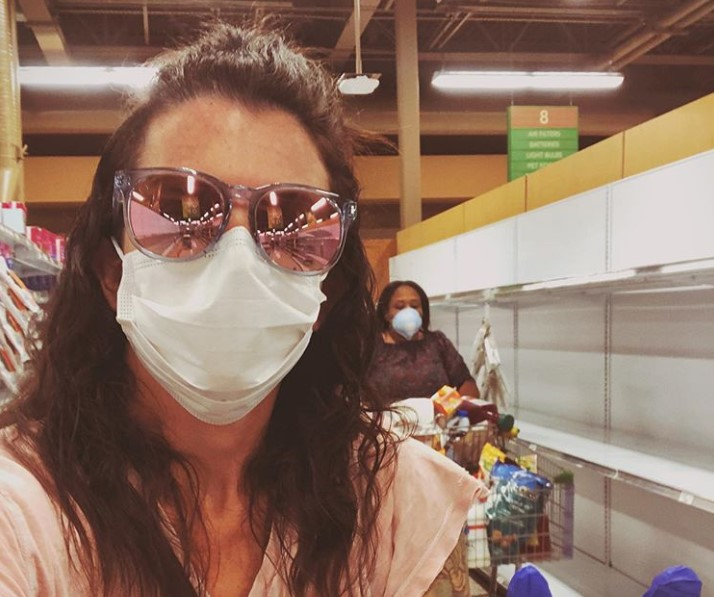face_with_mask: (101, 38, 361, 429), (379, 281, 430, 340)
